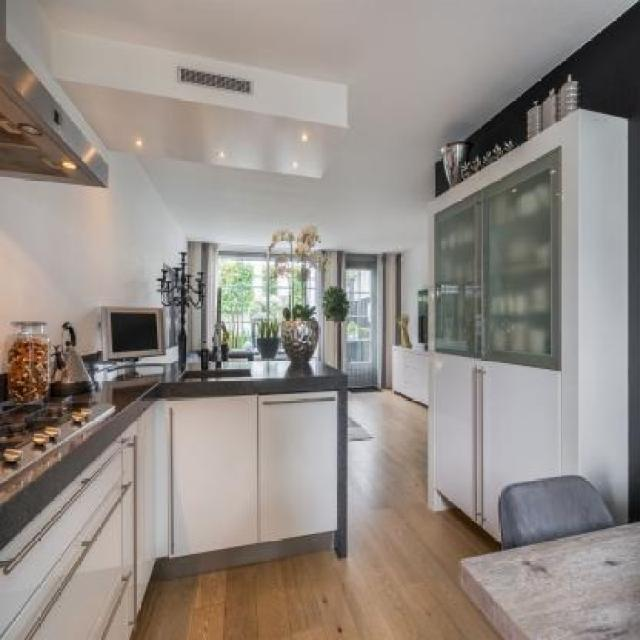floor: (130, 387, 509, 640)
